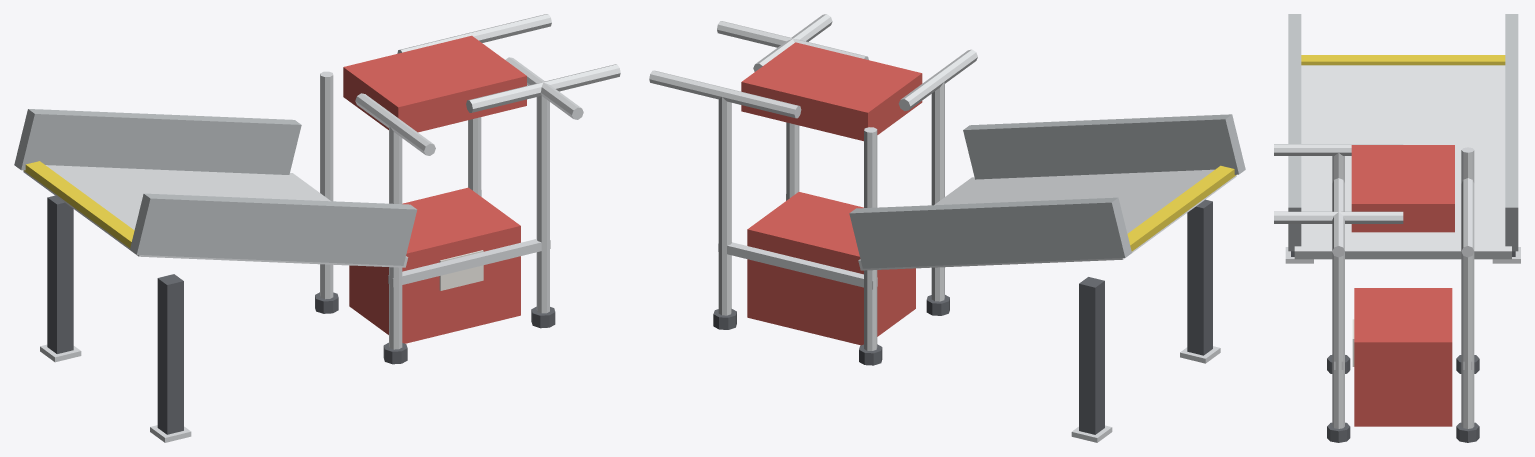
Rendered from sorting-chute-with-bag-frame.glb.
3 renders of one model, left to right at view 1: azimuth 30°, elevation 25°; view 2: azimuth 150°, elevation 25°; view 3: azimuth 270°, elevation 25°, orthographic. The views are drawn at different scales.
Parts seen in each view (by area): view 1: parcel-depot-and-sorting-hall-sorting-chute-with-bag-frame; view 2: parcel-depot-and-sorting-hall-sorting-chute-with-bag-frame; view 3: parcel-depot-and-sorting-hall-sorting-chute-with-bag-frame.
Boxes of the visible parts, x1,y1,x2,y2 form: parcel-depot-and-sorting-hall-sorting-chute-with-bag-frame: (14, 14, 620, 442); parcel-depot-and-sorting-hall-sorting-chute-with-bag-frame: (649, 14, 1245, 442); parcel-depot-and-sorting-hall-sorting-chute-with-bag-frame: (1274, 14, 1520, 442).
Bounding box in the file's own units: 2.13 × 0.9888 × 0.9549.
